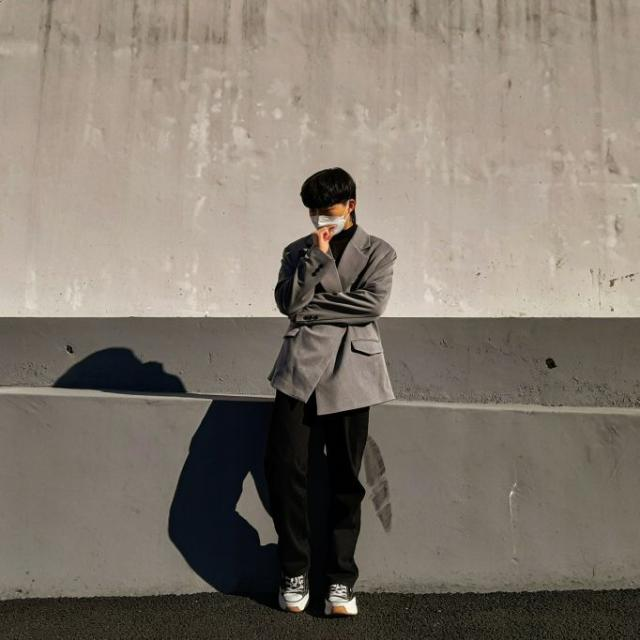blazer: (274, 225, 398, 412)
slacks: (279, 373, 372, 591)
